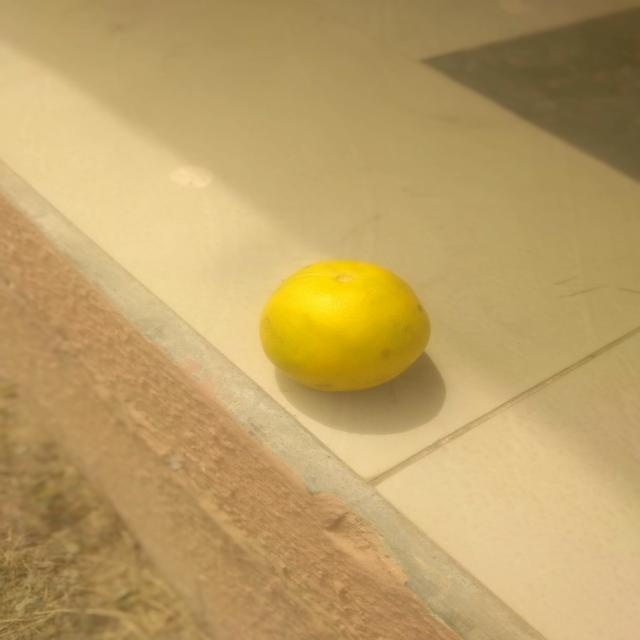agrume: (256, 257, 447, 390)
